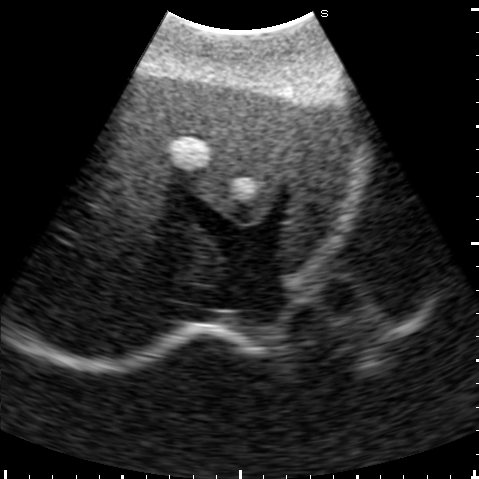S2: (281, 116, 356, 262)
S4: (113, 72, 301, 224)
S7: (28, 242, 183, 360)
S8: (77, 124, 220, 284)
Tumor: (167, 136, 208, 170), (229, 178, 256, 200)
